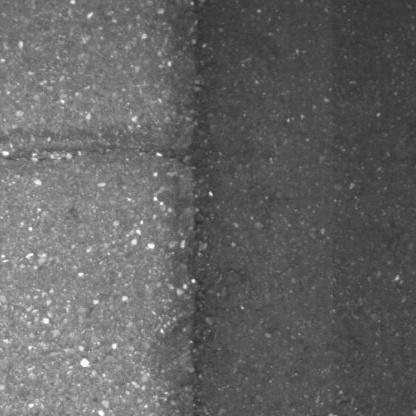Cracks: (0, 142, 151, 168)
